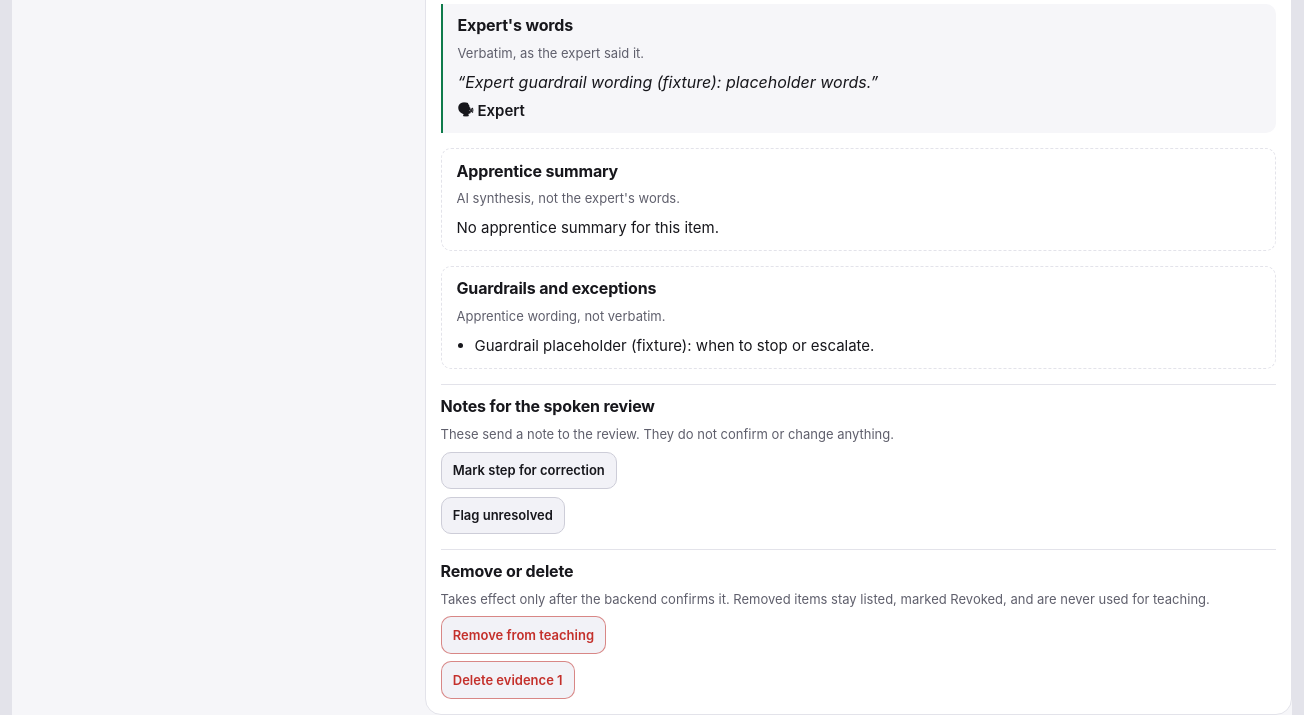
Test: Trust controls on the Work Map › a deletion needs two presses and stays pending until acknowledged
The width and height of the screenshot is (1304, 715).
(page scrolled)
Step 1. Click the button "Delete evidence 1" → (508, 680), box [440,661,575,699]
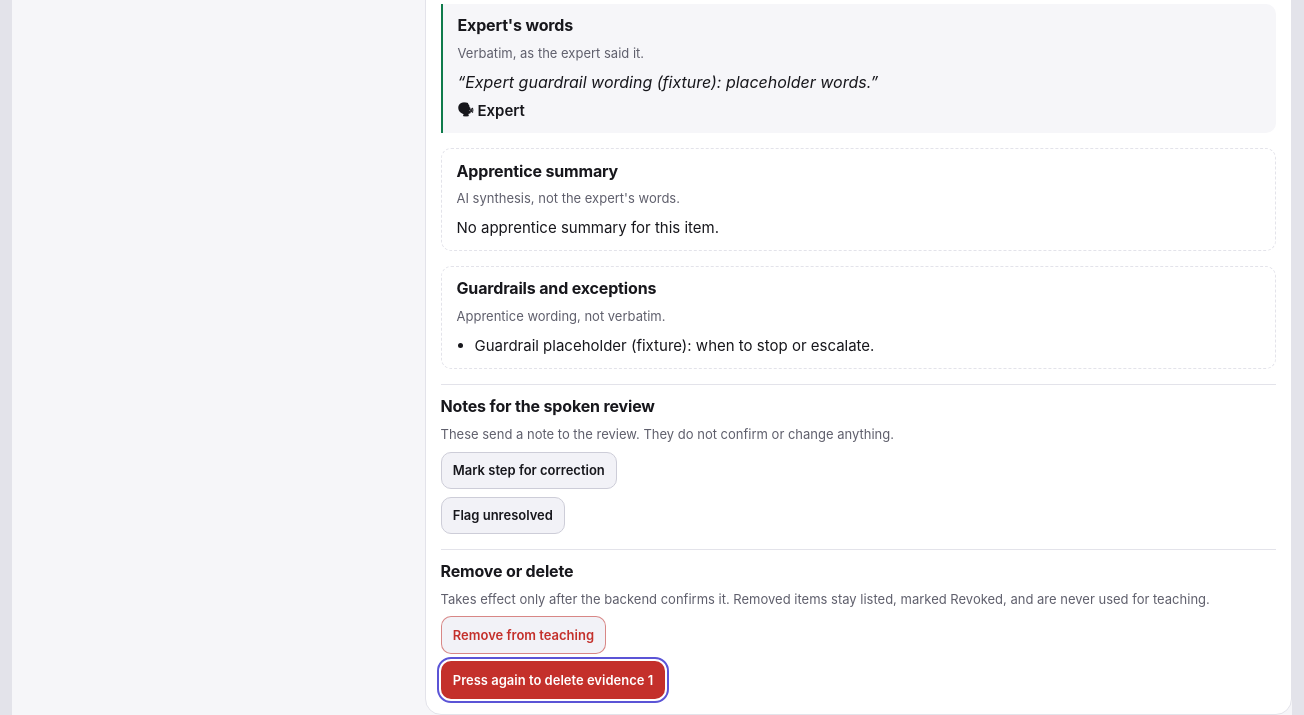
Step 2. Click the button "Press again to delete evidence 1" → (553, 680), box [440,661,665,699]
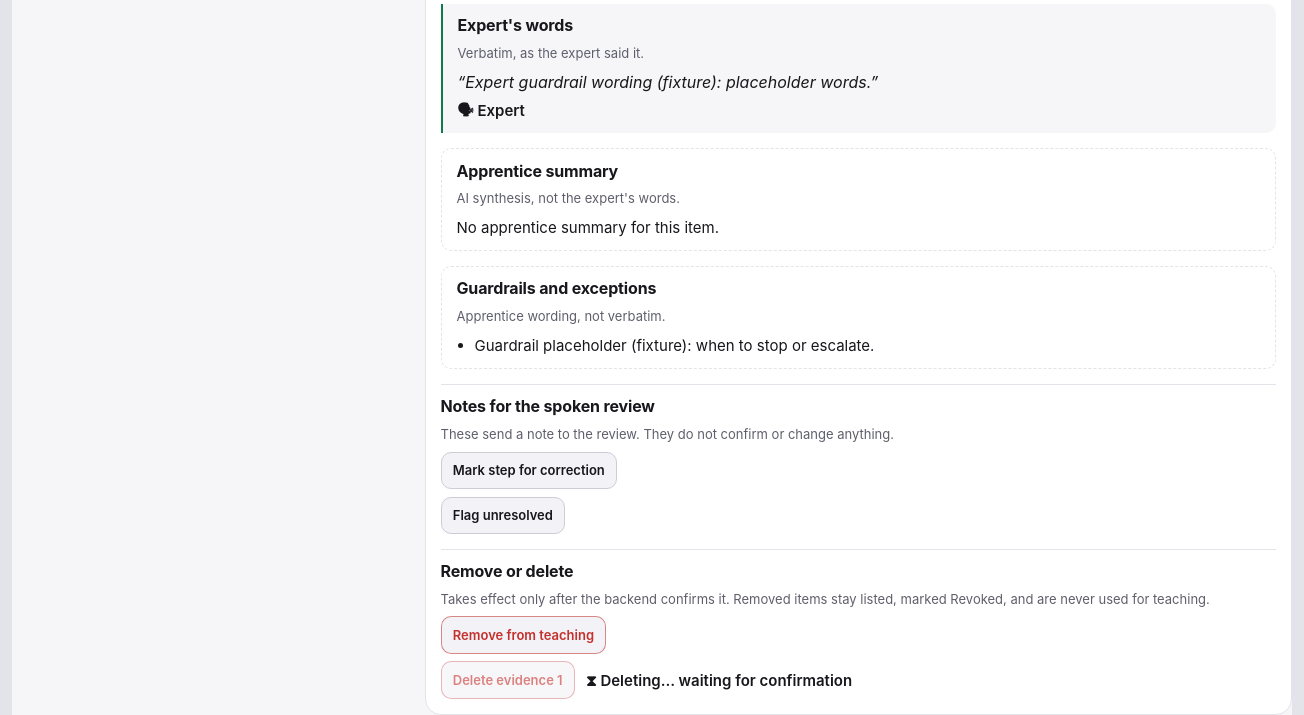
Expected: the text "Evidence deleted (confirmed)" is not shown
Expected: the text "⧗ Deleting… waiting for confirmation" is shown, [586,670,852,690]
Expected: the button "Delete evidence 1" is disabled
# A second click while pending sends nothing.
Step 3. Click the button "Delete evidence 1" → (508, 680), box [440,661,575,699]
(page scrolled)
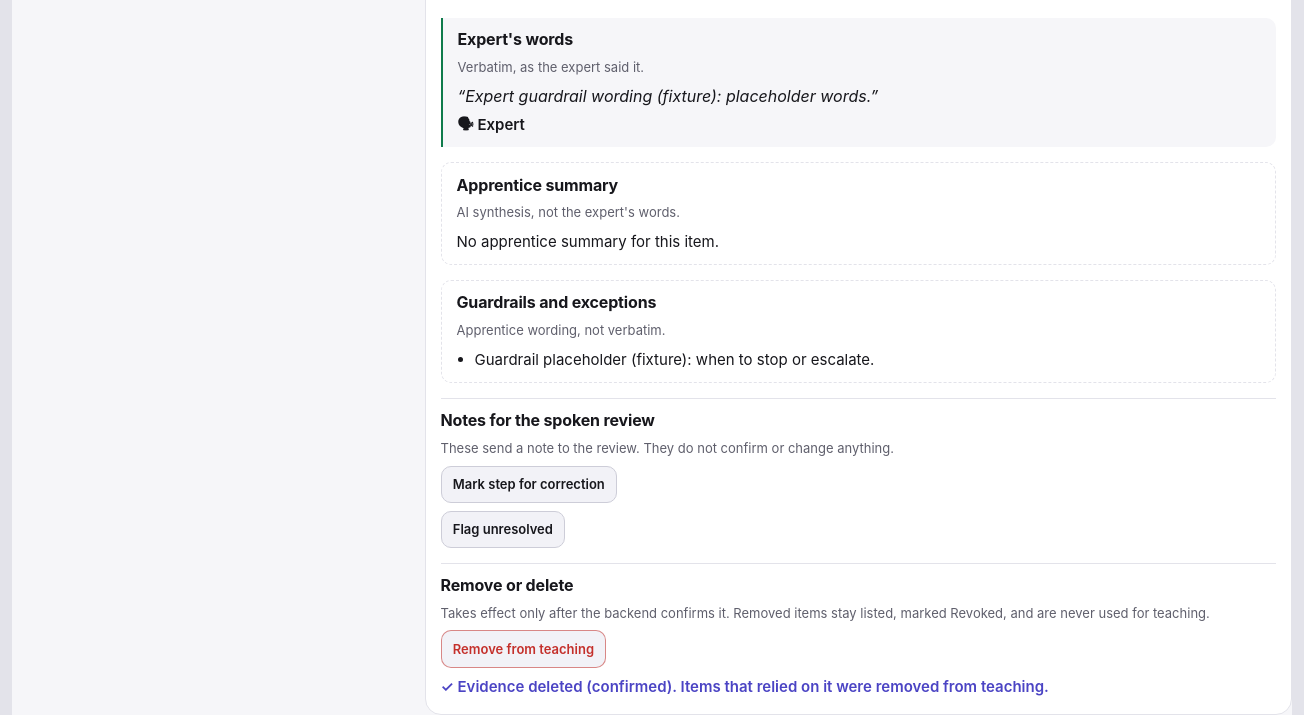
Expected: the text "Evidence deleted (confirmed)" is shown, [458,677,1049,696]
